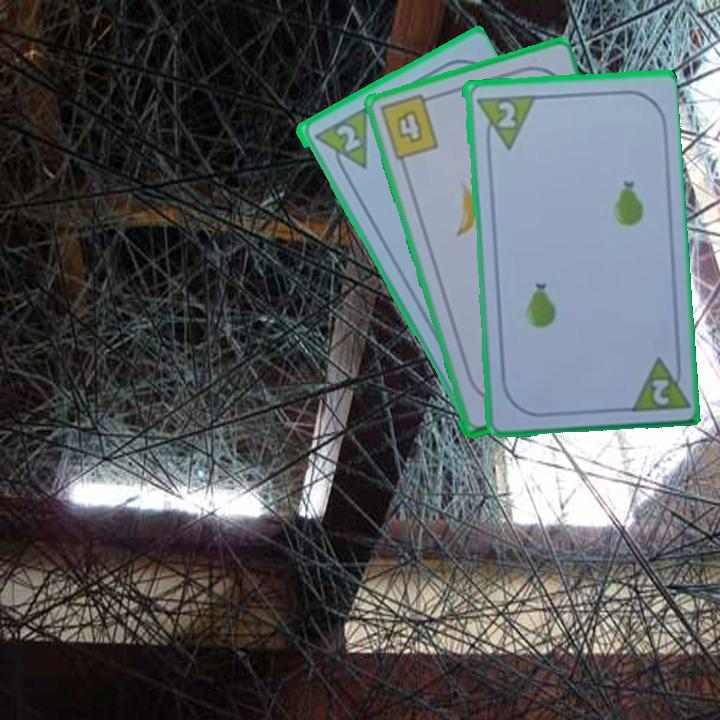2p: (472, 90, 536, 153), (332, 120, 363, 154), (648, 375, 672, 408)
4b: (375, 91, 441, 163)
